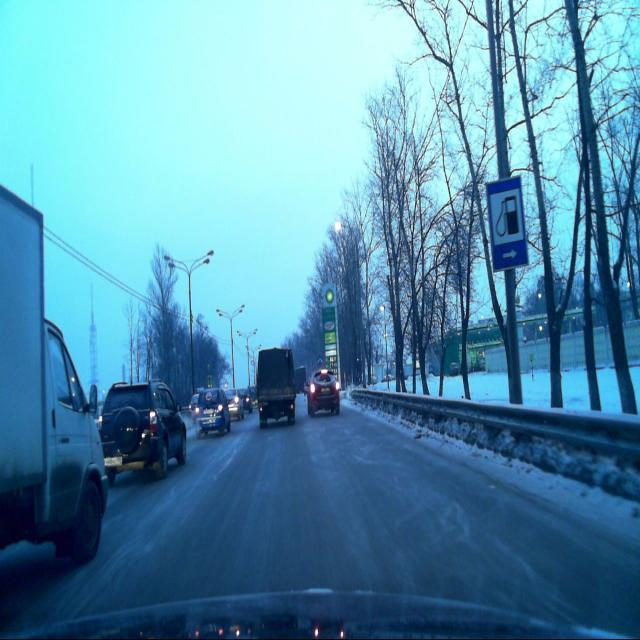road sign: (486, 177, 530, 271)
